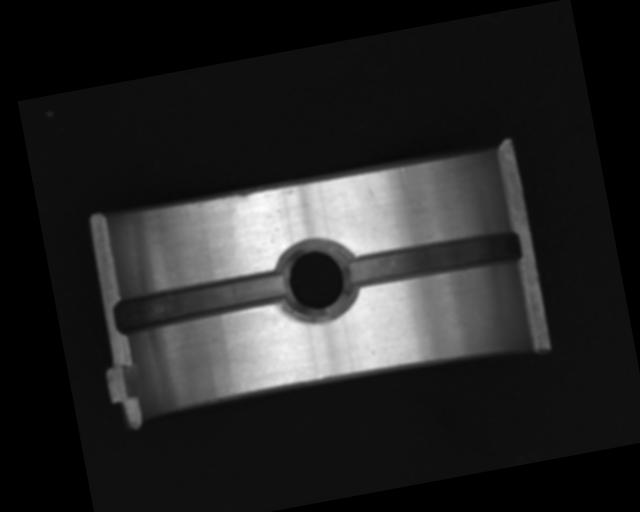gap: (339, 223, 525, 295), (111, 267, 290, 338)
hole: (272, 235, 361, 326)
nick: (398, 165, 410, 187)
